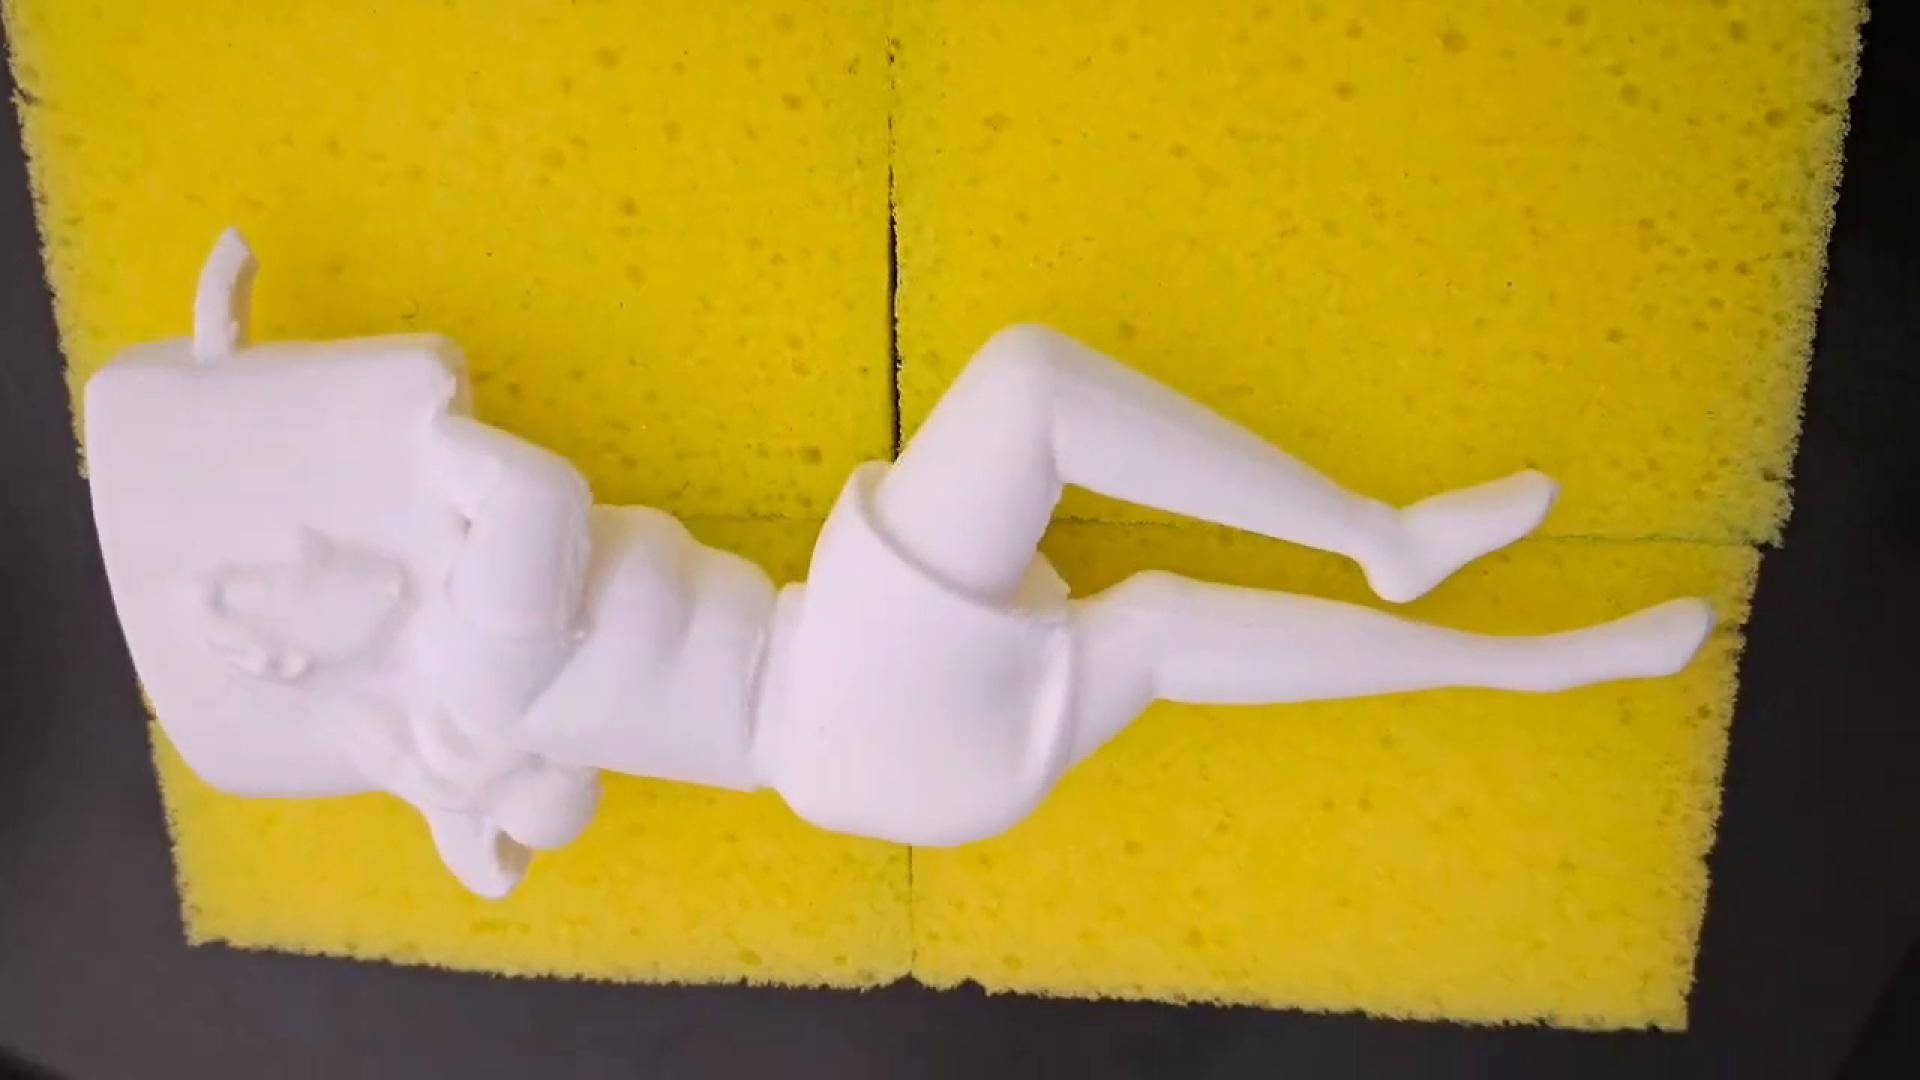Good-style: (83, 235, 1713, 910)
